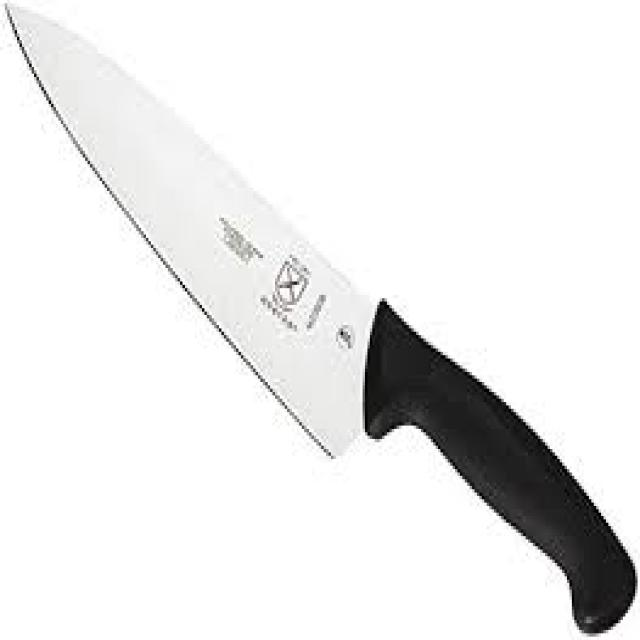knife: (5, 1, 640, 640)
